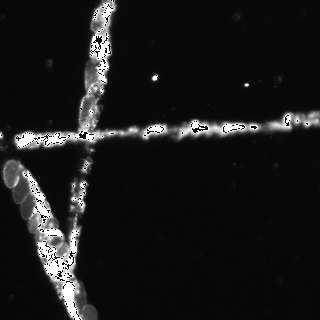embryo: (85, 59, 103, 96), (91, 3, 111, 33), (80, 95, 97, 130), (90, 32, 107, 62), (2, 160, 20, 188), (12, 173, 28, 204), (74, 279, 87, 314), (20, 194, 34, 219), (27, 214, 37, 234), (56, 241, 68, 256), (45, 217, 58, 229), (50, 236, 62, 245)
